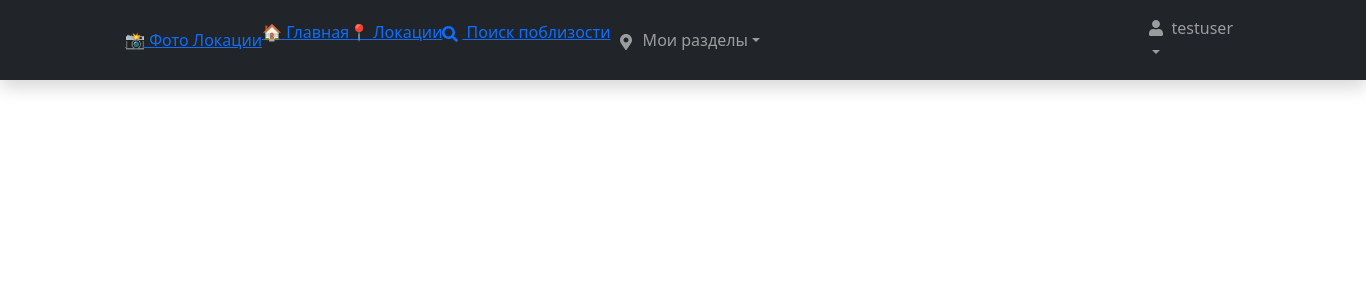
Scenario: Header Component › renders profile dropdown when user is authenticated
# Кликаем на dropdown профиля
Click the button "testuser" at (1190, 40), box [1140, 8, 1241, 72]
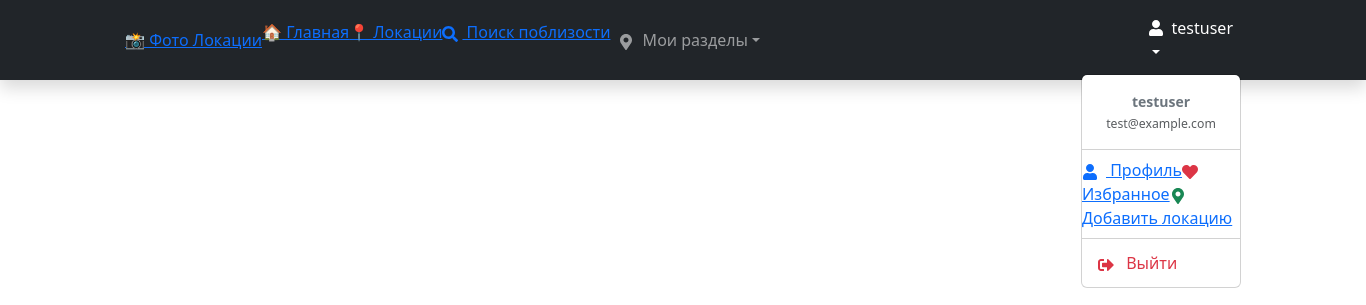
Result: the link "Профиль" is shown at [1082, 159, 1182, 181]
Result: the link "Избранное" is shown at [1082, 159, 1206, 205]
Result: the link "Добавить локацию" is shown at [1082, 183, 1232, 229]
